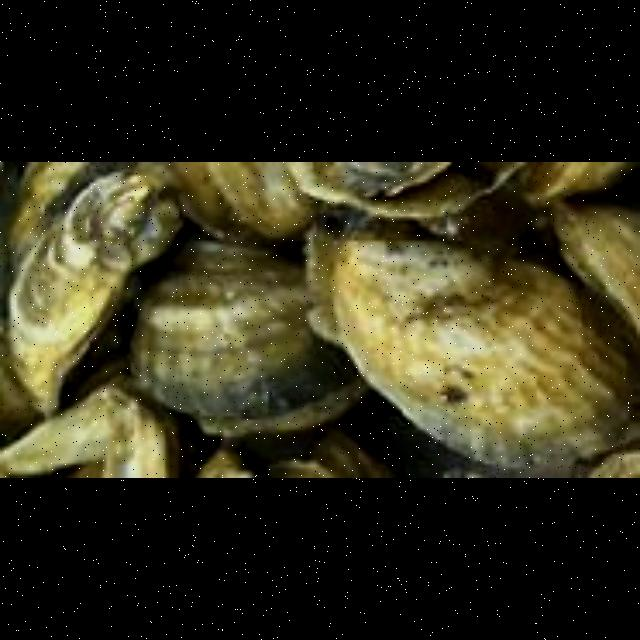Oyster-Closed: (331, 211, 640, 469), (132, 230, 371, 437), (6, 176, 179, 411), (161, 162, 319, 245), (295, 162, 527, 218), (553, 193, 640, 339), (520, 162, 631, 207), (334, 162, 450, 196), (308, 435, 387, 479), (591, 453, 640, 479), (266, 462, 334, 479)
